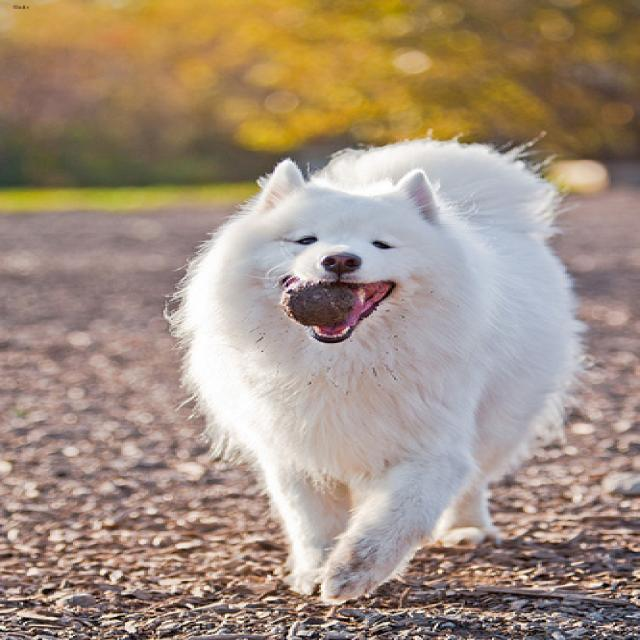dog-samoyed: (167, 128, 586, 612)
